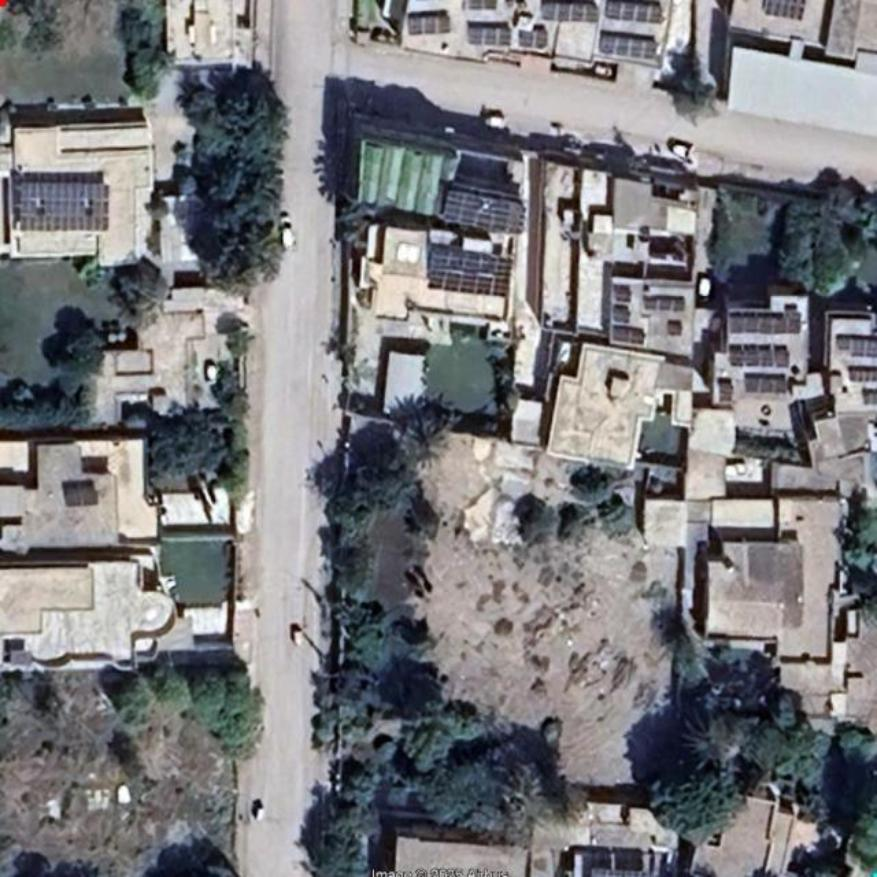Solarpanel: (427, 243, 514, 297), (17, 182, 109, 229), (440, 191, 526, 236), (599, 31, 658, 58), (540, 0, 595, 20), (606, 3, 664, 21), (729, 315, 797, 330), (730, 349, 787, 366), (468, 28, 510, 49), (763, 0, 808, 19), (408, 15, 451, 33), (746, 375, 784, 392), (588, 867, 653, 876), (852, 336, 876, 357), (614, 326, 643, 343)
